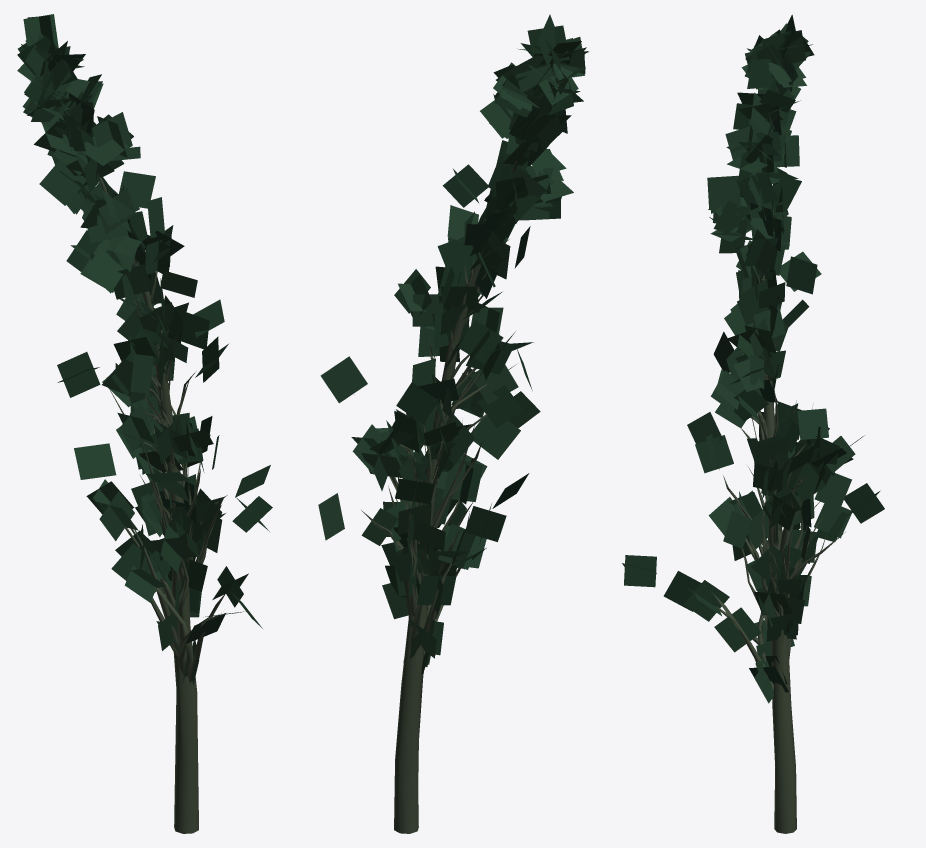
Rendered from meadow-spruce-b.lod2.glb.
3 renders of one model, left to right at view 1: azimuth 30°, elevation 25°; view 2: azimuth 150°, elevation 25°; view 3: azimuth 270°, elevation 25°, orthographic. The views are drawn at different scales.
Parts seen in each view (by area): view 1: leaves, bark; view 2: leaves, bark; view 3: leaves, bark.
Boxes of the visible parts, bbox=[...] form: leaves: bbox=[17, 14, 272, 684]; bark: bbox=[99, 177, 227, 833]; leaves: bbox=[318, 14, 588, 674]; bark: bbox=[361, 139, 524, 833]; leaves: bbox=[622, 14, 884, 703]; bark: bbox=[688, 166, 845, 833].
Bounding box in the file's own units: 11.93 × 39.94 × 14.08.
